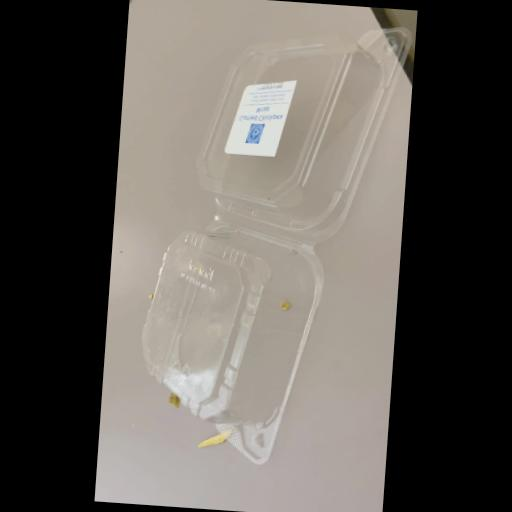small_plastic_container: (130, 23, 411, 475)
